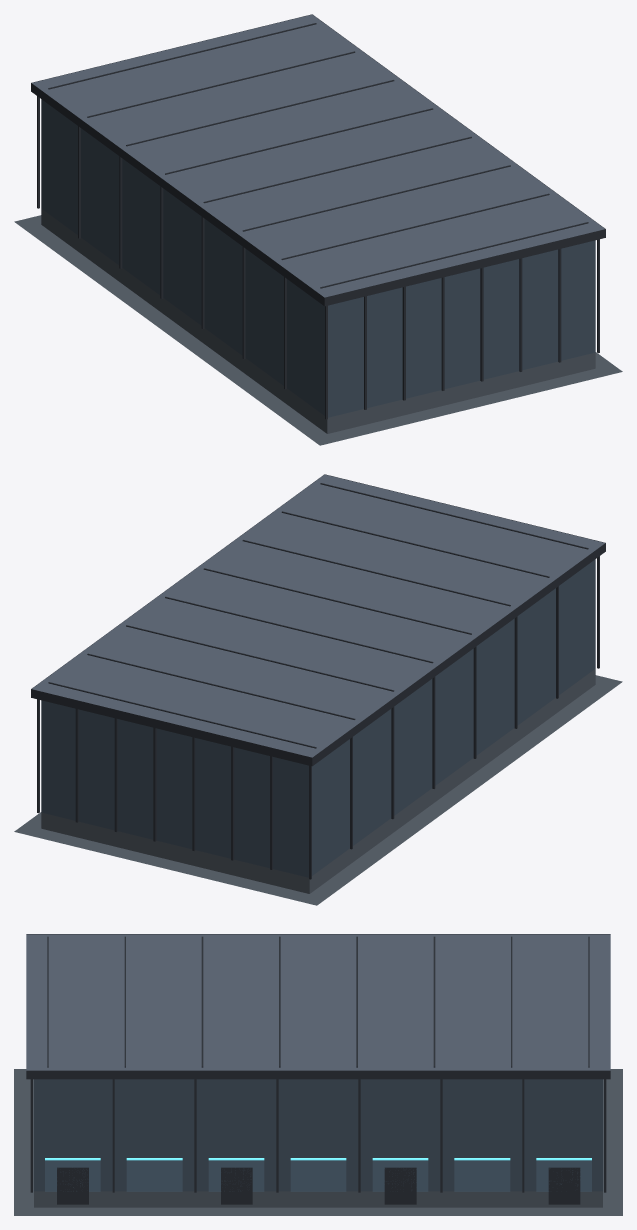
The model's file is shell.glb.
3 renders of one model, top to bottom at view 1: azimuth 30°, elevation 25°; view 2: azimuth 150°, elevation 25°; view 3: azimuth 270°, elevation 25°, orthographic.
Parts seen in each view (by area): view 1: shell_roof_canopy, shell_bowl_mass_cladding, shell_roof_canopy_fascia, shell_bowl_mass_plinth, shell_field_floor_apron, shell_bowl_mass_facade_panels; view 2: shell_roof_canopy, shell_bowl_mass_cladding, shell_roof_canopy_fascia, shell_bowl_mass_plinth, shell_field_floor_apron, shell_bowl_mass_facade_panels; view 3: shell_roof_canopy, shell_bowl_mass_cladding, shell_field_floor_apron, shell_bowl_mass_suite_glass_lobby, shell_roof_canopy_fascia, shell_bowl_mass_plinth, shell_bowl_mass_portal_frames, shell_bowl_mass_facade_panels, shell_ribbon_led_entry_static.
Boxes of the visible parts, <box> form: shell_roof_canopy: <box>32,14,604,297</box>; shell_bowl_mass_cladding: <box>41,99,595,417</box>; shell_roof_canopy_fascia: <box>31,14,605,306</box>; shell_bowl_mass_plinth: <box>41,209,595,433</box>; shell_field_floor_apron: <box>14,215,622,445</box>; shell_bowl_mass_facade_panels: <box>37,96,599,419</box>; shell_roof_canopy: <box>32,474,604,757</box>; shell_bowl_mass_cladding: <box>41,559,595,877</box>; shell_roof_canopy_fascia: <box>31,474,605,766</box>; shell_bowl_mass_plinth: <box>41,669,595,893</box>; shell_field_floor_apron: <box>14,675,622,905</box>; shell_bowl_mass_facade_panels: <box>37,556,599,879</box>; shell_roof_canopy: <box>26,934,610,1070</box>; shell_bowl_mass_cladding: <box>34,1079,602,1191</box>; shell_field_floor_apron: <box>14,1069,622,1215</box>; shell_bowl_mass_suite_glass_lobby: <box>45,1160,591,1191</box>; shell_roof_canopy_fascia: <box>26,934,610,1079</box>; shell_bowl_mass_plinth: <box>34,1191,602,1207</box>; shell_bowl_mass_portal_frames: <box>57,1167,580,1204</box>; shell_bowl_mass_facade_panels: <box>30,1079,606,1192</box>; shell_ribbon_led_entry_static: <box>45,1158,591,1160</box>.
Size of the model in its own units: 23.12 by 10.34 by 40.45.
